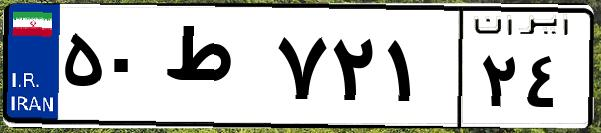0: (110, 28, 158, 98)
1: (385, 28, 445, 110)
2: (330, 28, 385, 110), (475, 38, 525, 113)
4: (525, 38, 570, 115)
5: (57, 26, 110, 100)
7: (270, 28, 330, 110)
ط: (158, 20, 270, 120)
